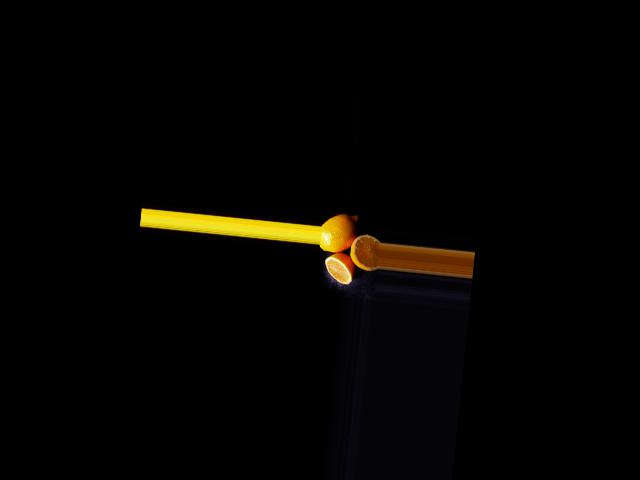lemon: (319, 208, 359, 257)
